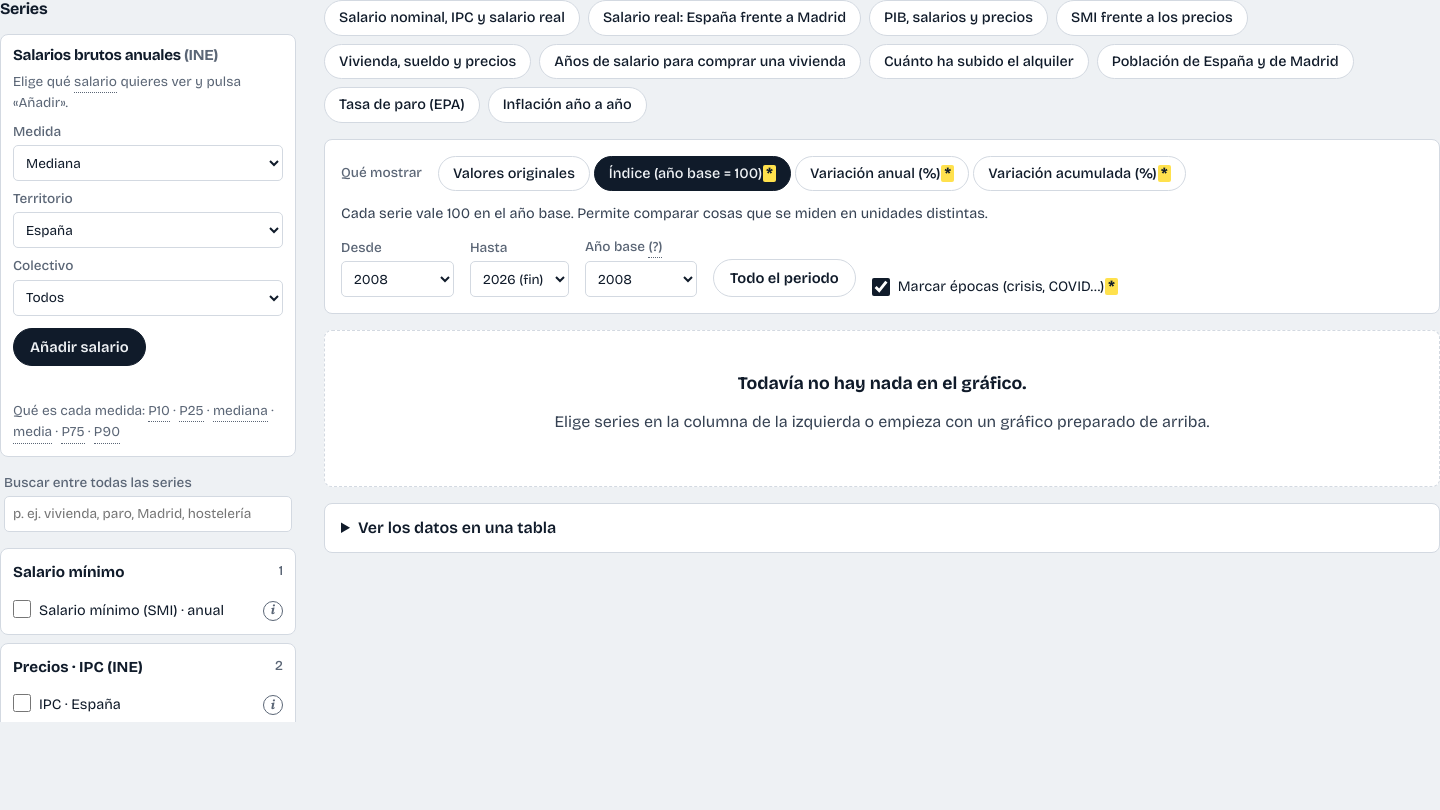
it: Workbench › añadir un salario con el constructor
Expected: the text "Todavía no hay nada en el gráfico." is shown, [738,373,1026,394]
Select "P90 (parte alta)" in the dropdown labelled "Medida": x=148, y=163 [13,145,283,181]
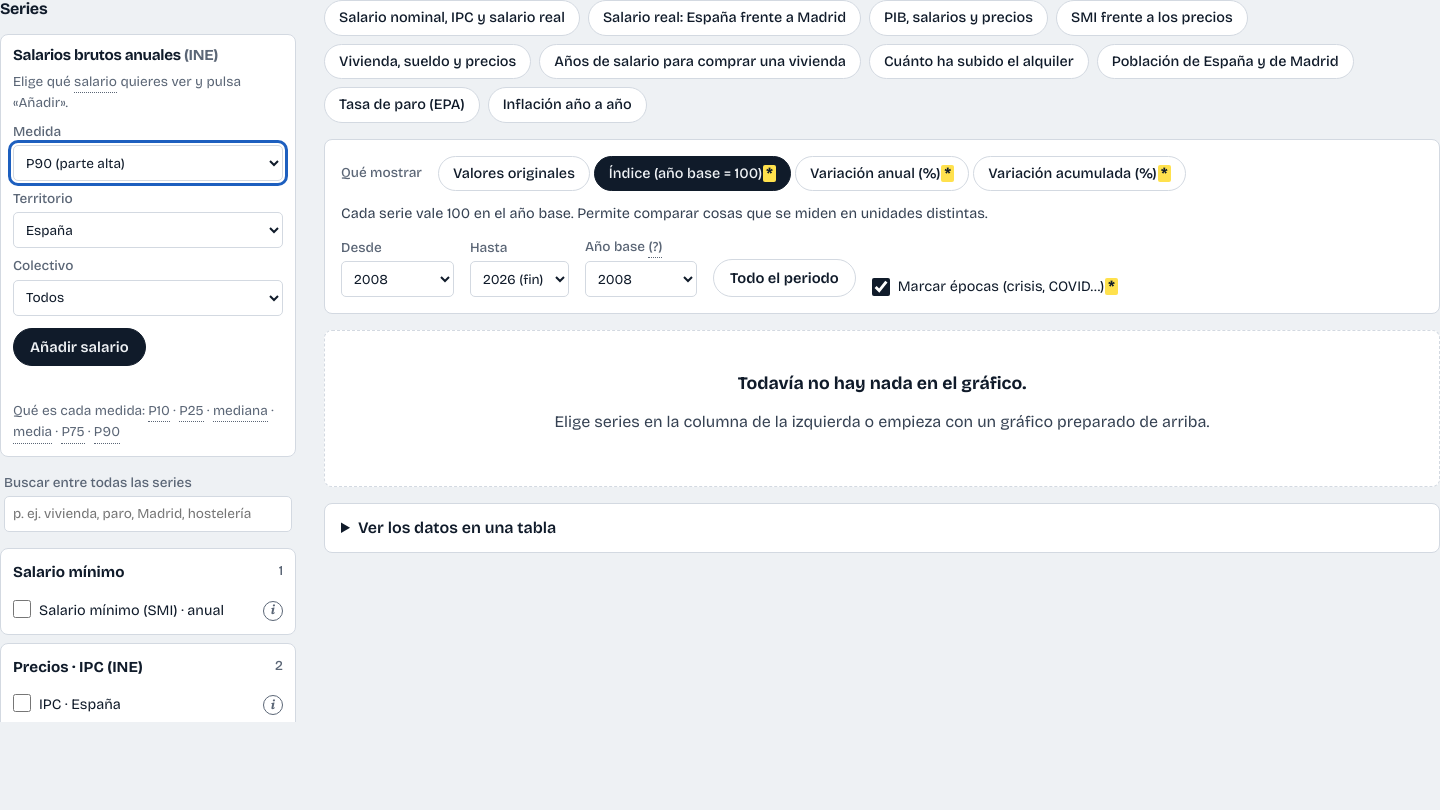
Select "Madrid" in the dropdown labelled "Territorio": x=148, y=230 [13,212,283,248]
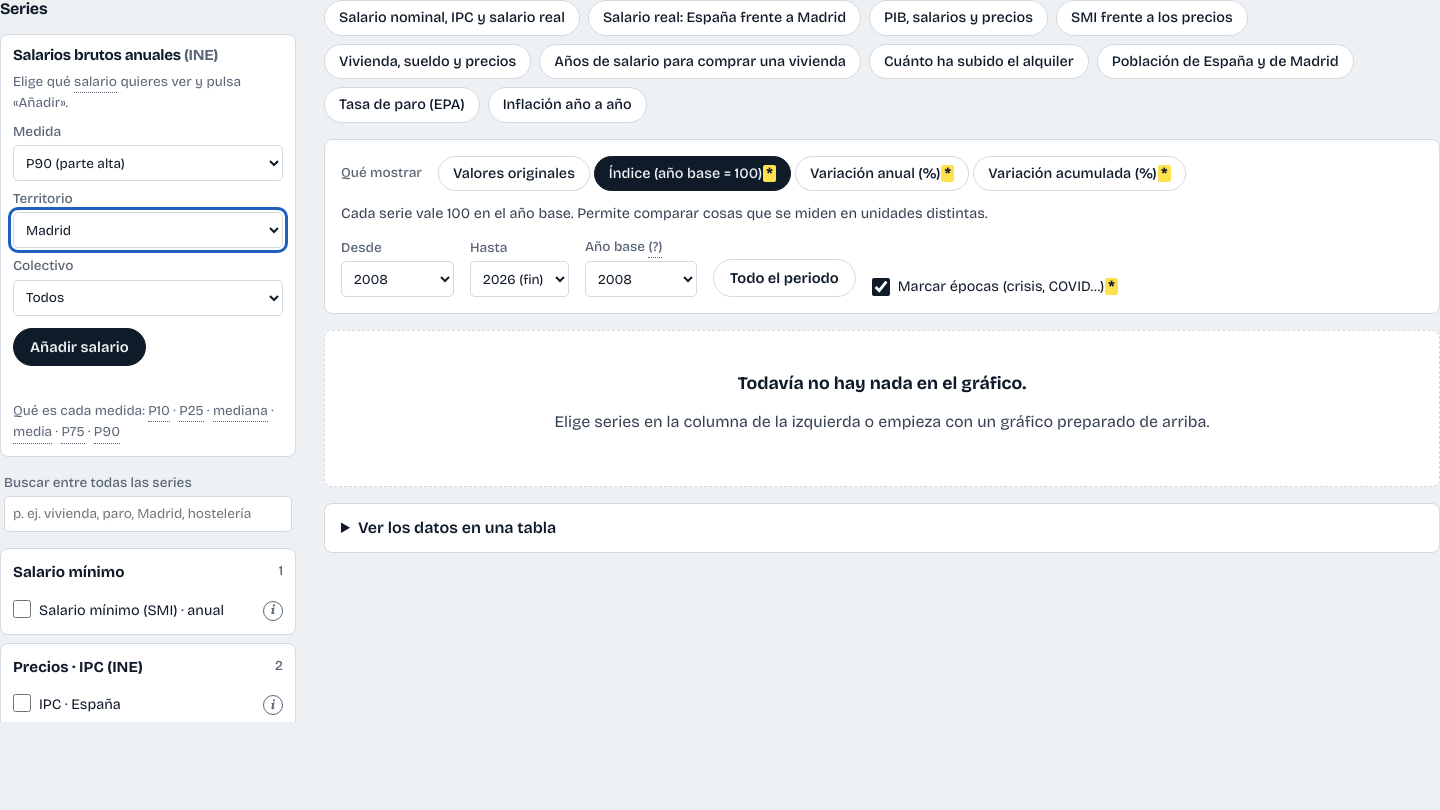
Click the button "Añadir salario": x=79, y=347 [13,328,146,366]
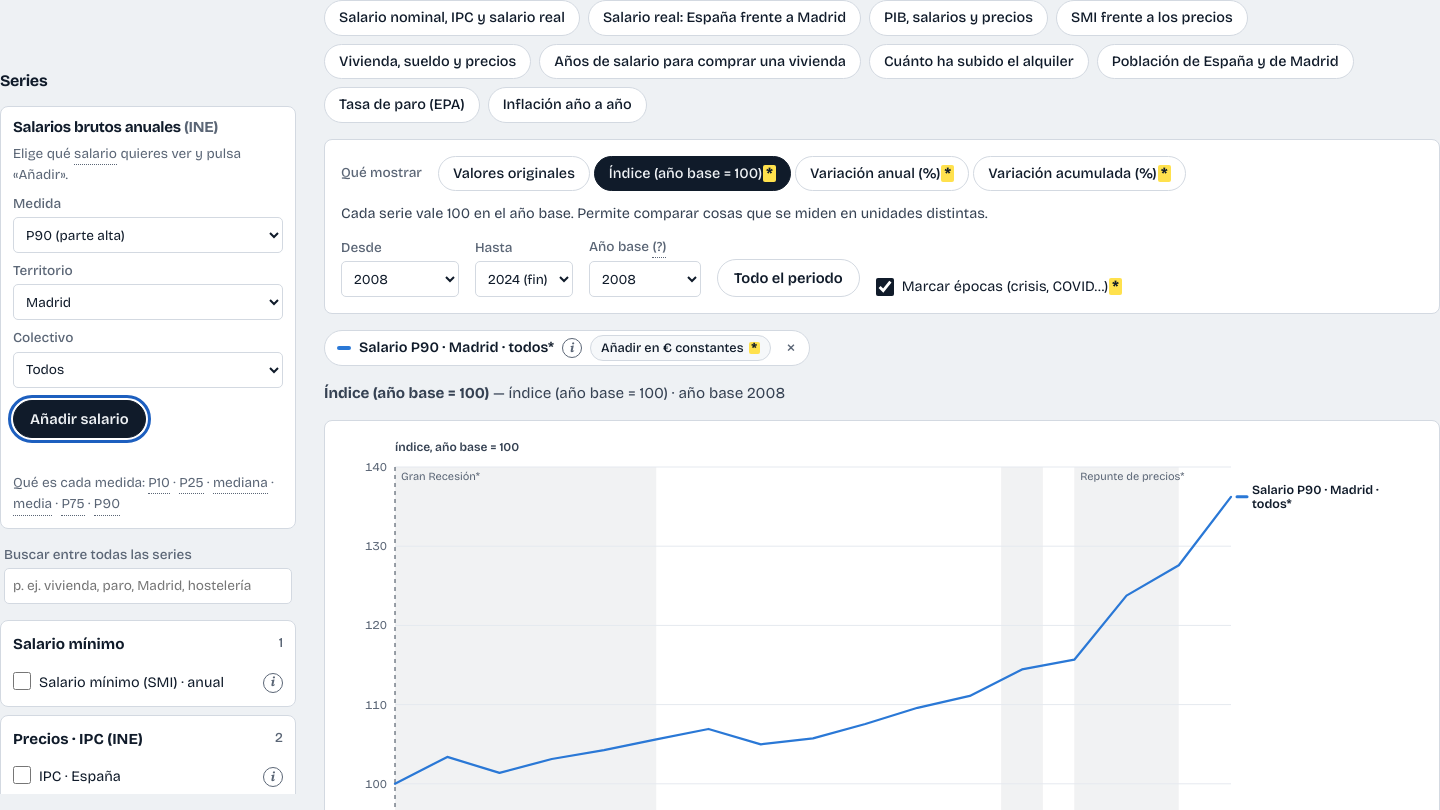
Expected: the text "Salario P90 · Madrid · todos*" is shown, [359,337,554,359]
